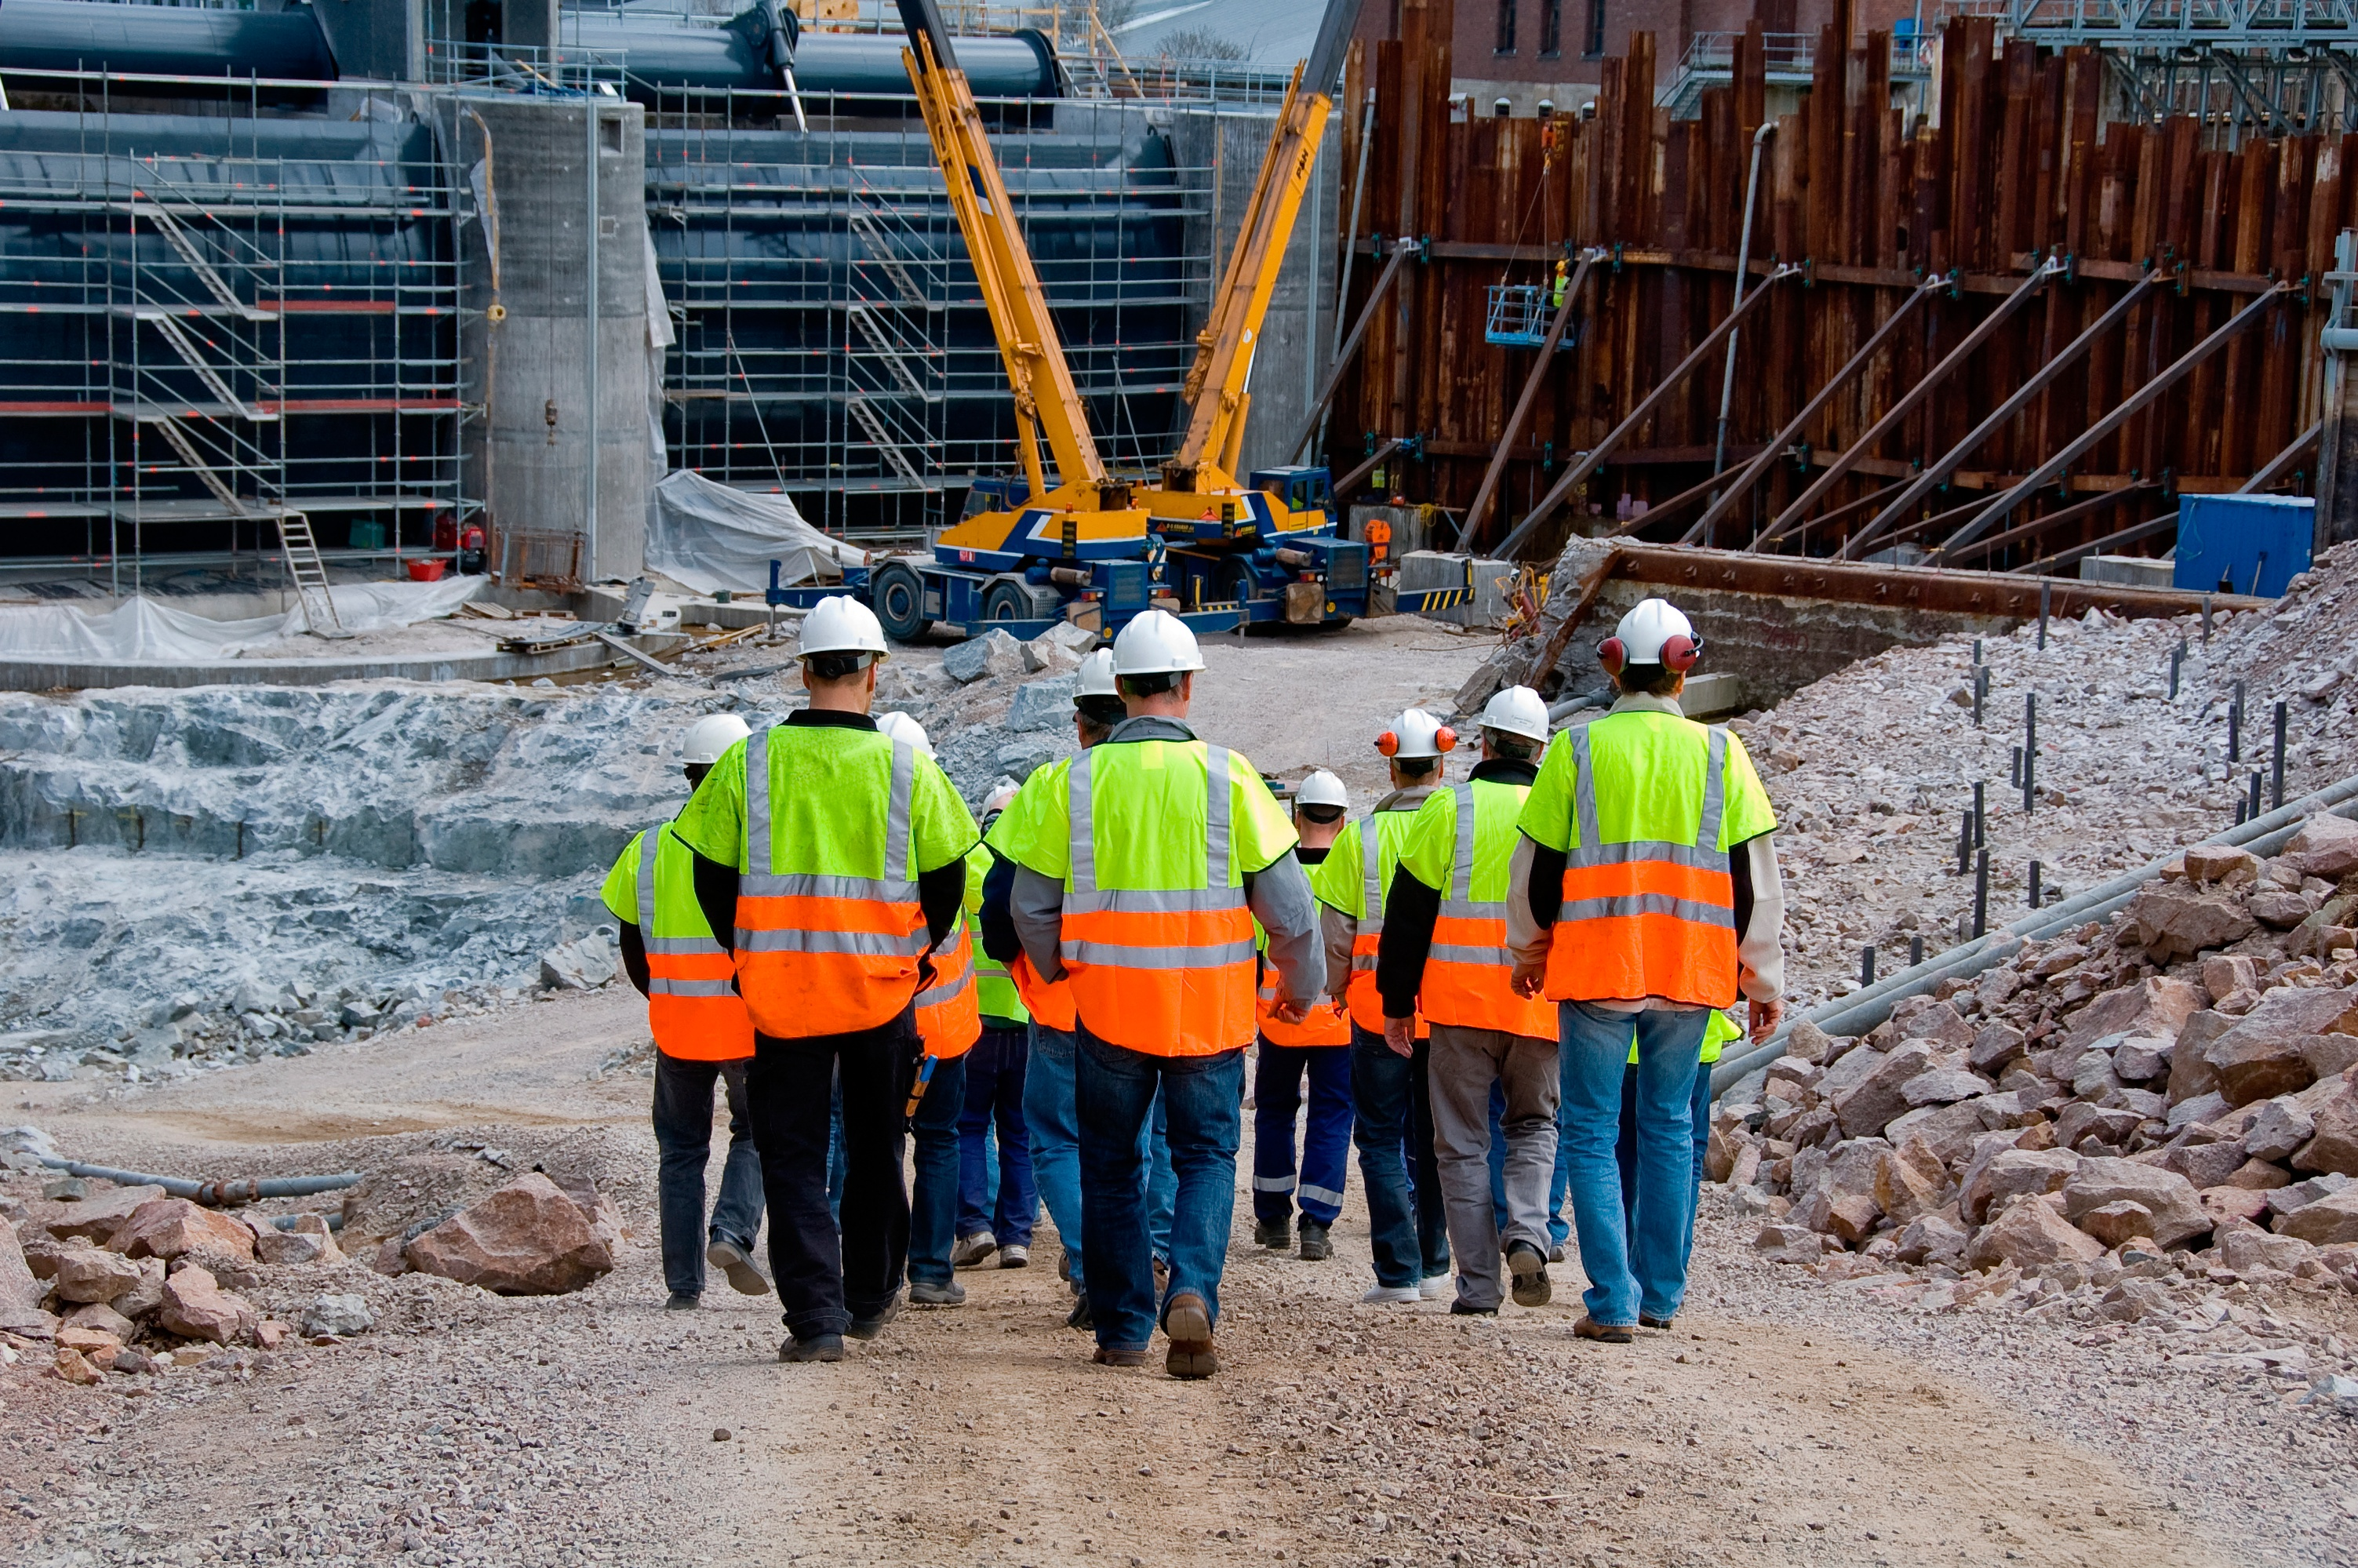white: (796, 593, 883, 712), (1109, 609, 1202, 719), (1611, 598, 1697, 696), (1476, 682, 1552, 766), (682, 714, 754, 798), (1072, 644, 1127, 744), (1384, 707, 1448, 789), (1291, 770, 1350, 840)
